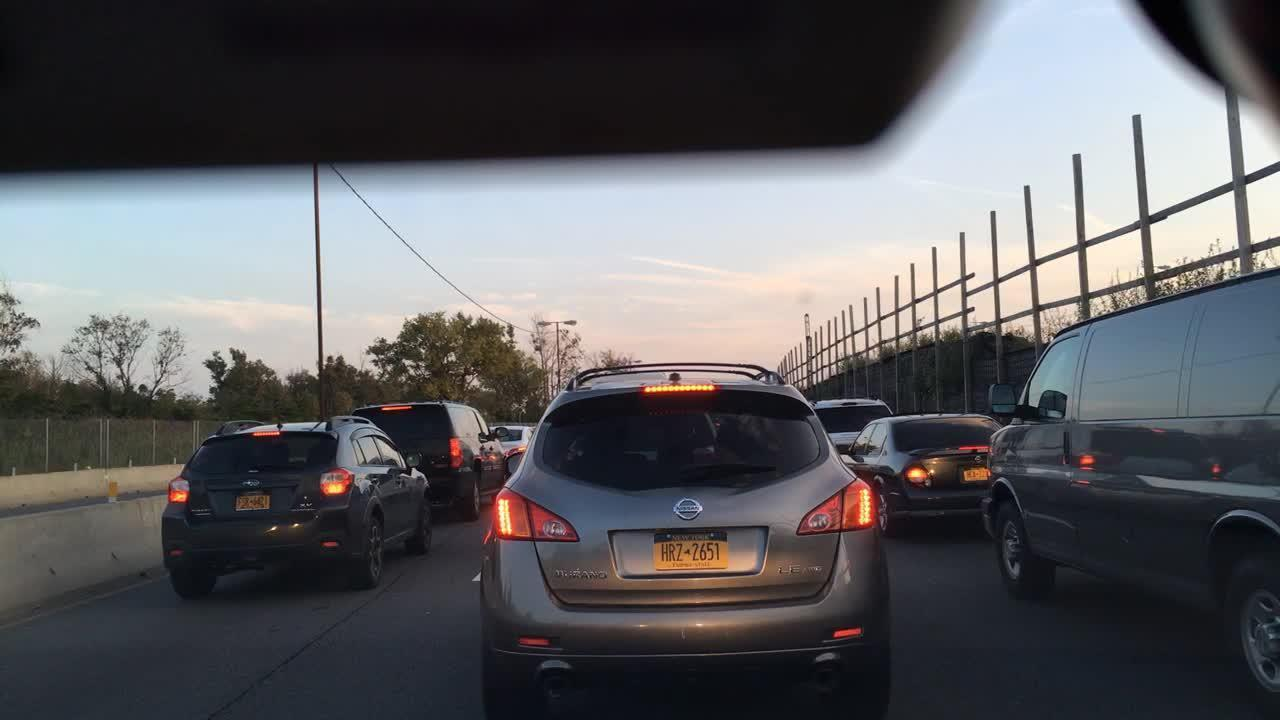Nissan: (668, 494, 718, 532)
